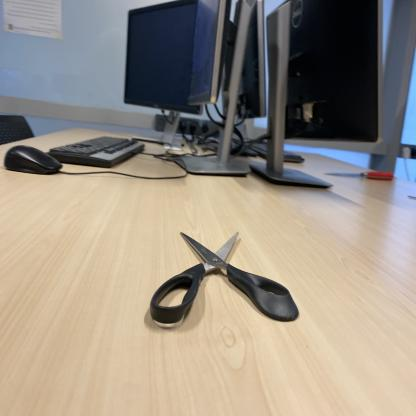scissors: (148, 230, 300, 328)
